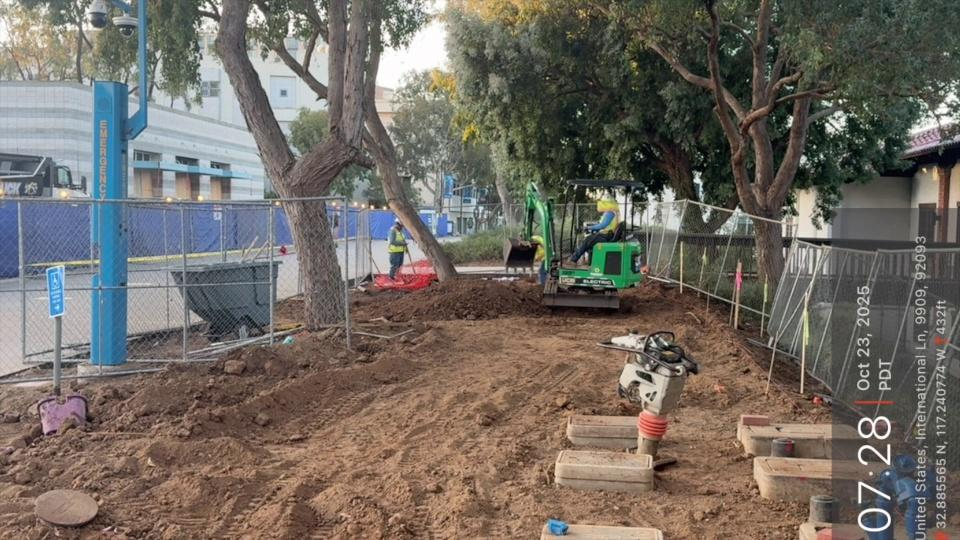Exacavator: (513, 176, 650, 312)
